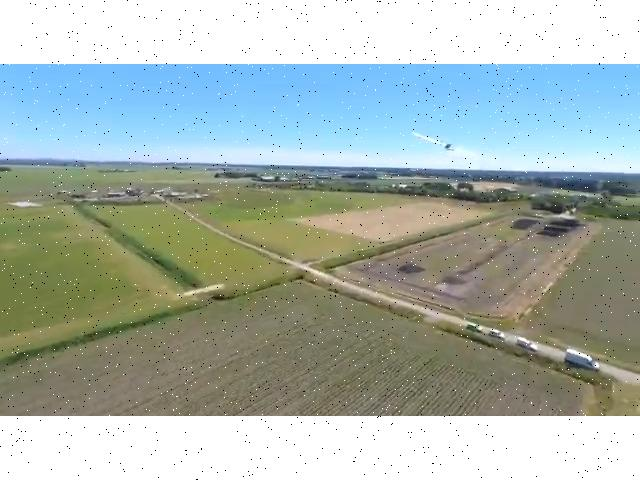Anti-Drone: (406, 123, 486, 171)
